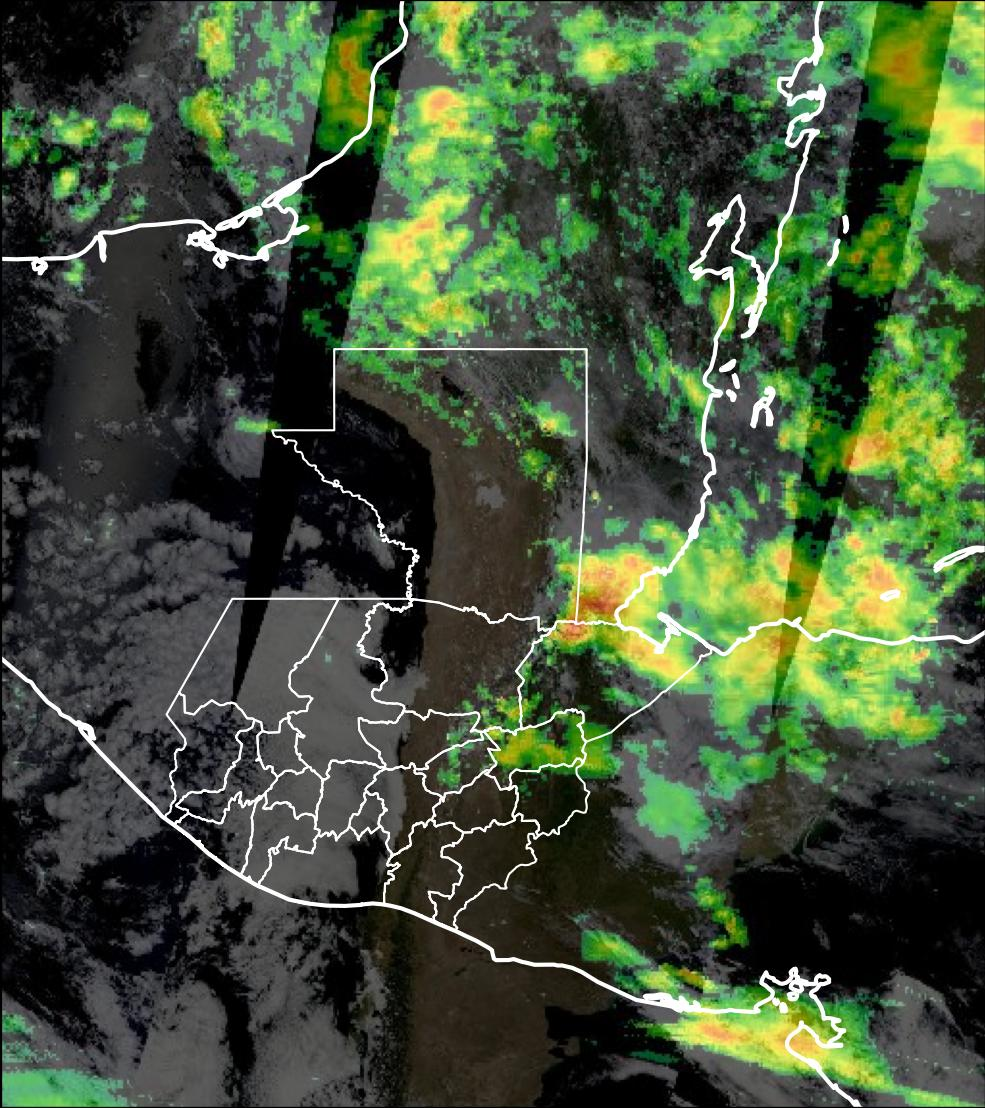precipitacion: (543, 540, 672, 650), (831, 416, 964, 484)
